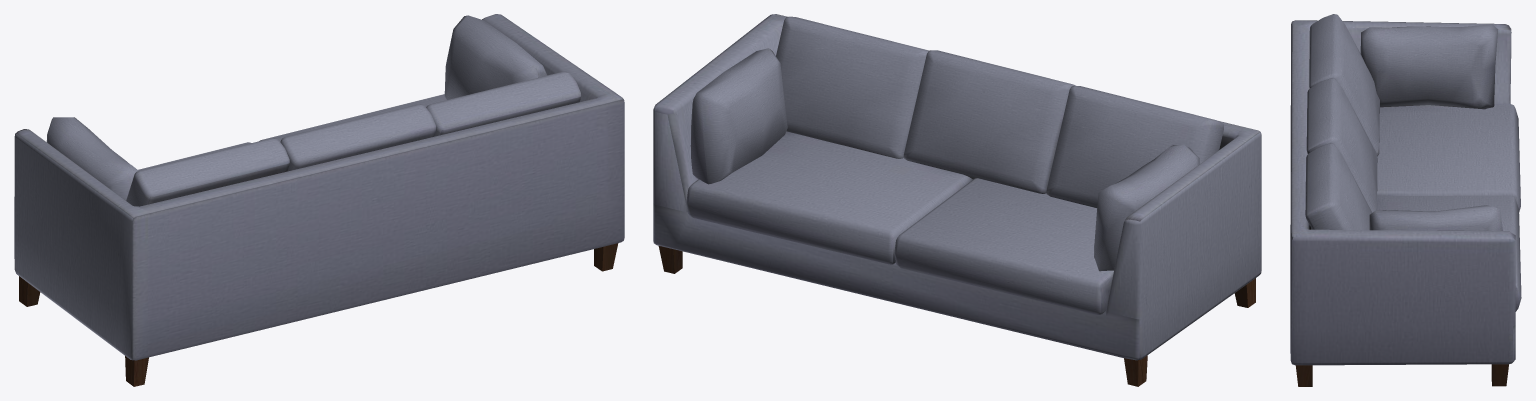
File: frl_apartment_sofa.glb
The picture shows the model from 3 angles, left to right: view 1: azimuth 30°, elevation 25°; view 2: azimuth 150°, elevation 25°; view 3: azimuth 270°, elevation 25°; orthographic projection. The views are drawn at different scales.
Visible parts, largest first — view 1: frl_apartment_sofa; view 2: frl_apartment_sofa; view 3: frl_apartment_sofa.
Boxes of the visible parts, bbox=[...] form: frl_apartment_sofa: bbox=[14, 14, 624, 386]; frl_apartment_sofa: bbox=[653, 14, 1261, 386]; frl_apartment_sofa: bbox=[1290, 14, 1521, 386].
Size of the model in its own units: 2.14 by 0.8005 by 0.9634.
1 material, 1 textured.
